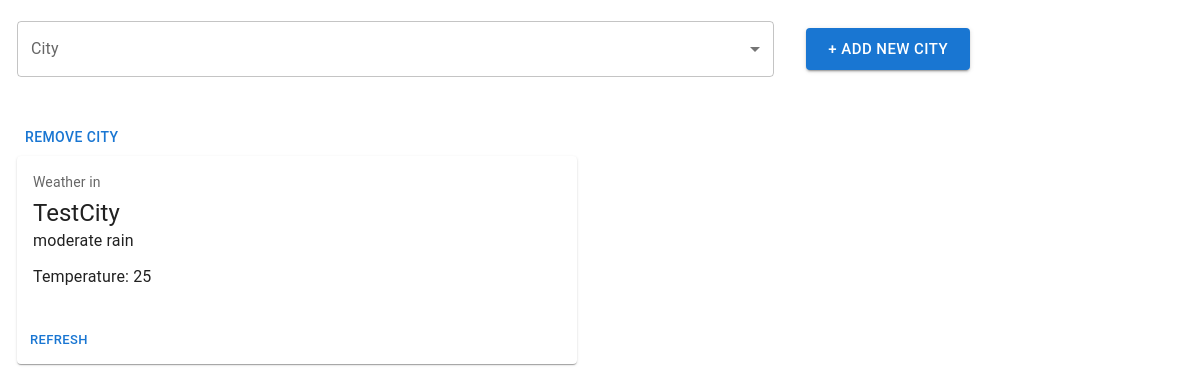
Test: render city card with correct information from state › add new city card
The image size is (1187, 383).
Replace the text in the field with test id "city-select" with "Ivano-Frankivsk" at [396, 49], box [17,21,774,77]
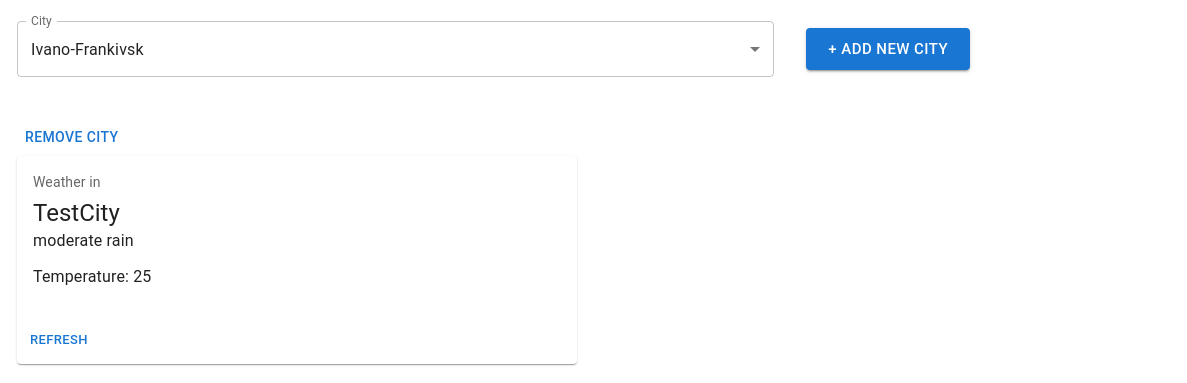
Click the button with test id "add-city" at [888, 49], box [806,28,970,70]
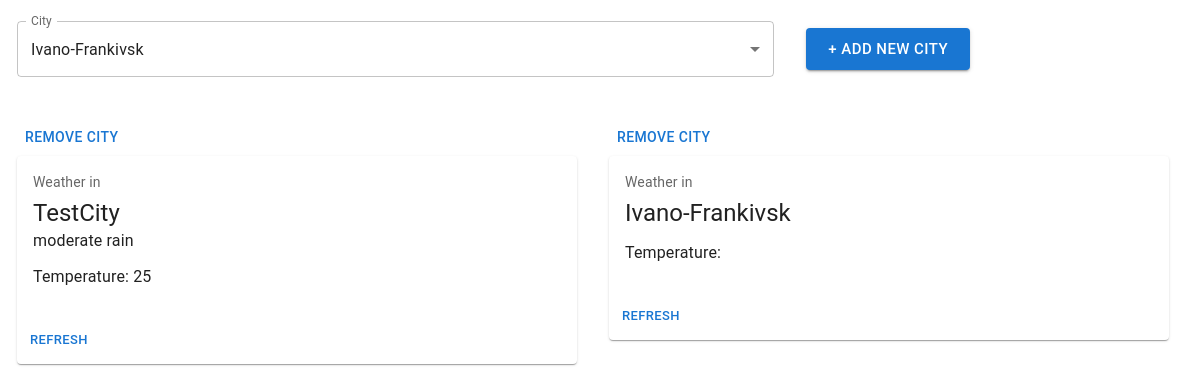
Expected: the number of elements with test id "city-card" is 2, [17,156,577,364]; [609,156,1169,340]
